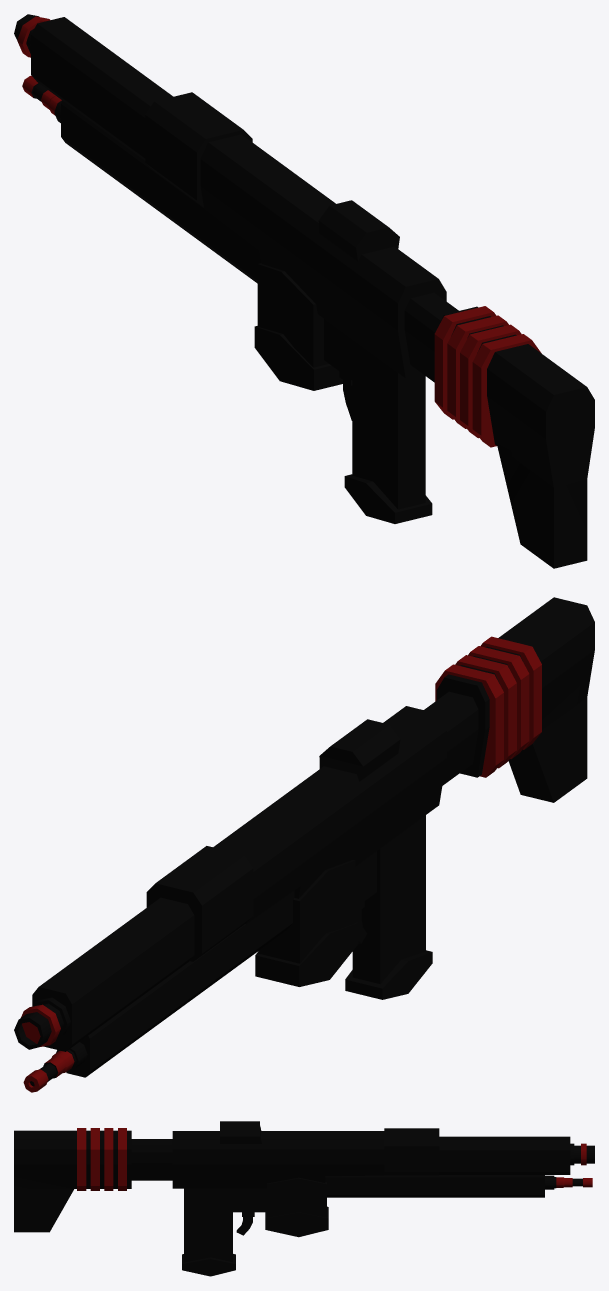
The model's file is Shotgun.obj.
3 renders of one model, top to bottom at view 1: azimuth 30°, elevation 25°; view 2: azimuth 150°, elevation 25°; view 3: azimuth 270°, elevation 25°, orthographic. The views are drawn at different scales.
Parts seen in each view (by area): view 1: Cube.025_Cube.049; view 2: Cube.025_Cube.049; view 3: Cube.025_Cube.049.
Part boxes in pixels (left/top/right/bottom): Cube.025_Cube.049: left=14, top=14, right=594, bottom=568; Cube.025_Cube.049: left=14, top=597, right=594, bottom=1092; Cube.025_Cube.049: left=14, top=1121, right=594, bottom=1276.
Bounding box in the file's own units: 0.0657 × 0.2845 × 1.02.
